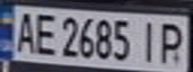2: (57, 12, 81, 59)
5: (112, 16, 136, 62)
6: (75, 15, 96, 60)
8: (93, 16, 115, 61)
A: (9, 8, 39, 54)
E: (30, 10, 60, 56)
I: (133, 17, 163, 64)
P: (154, 18, 190, 64)
